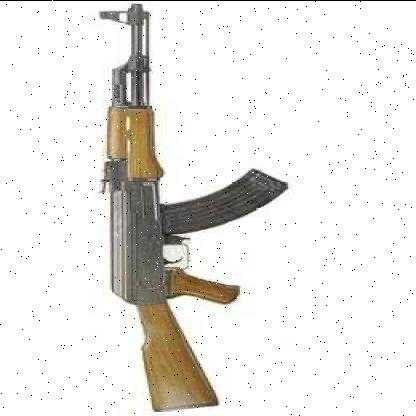rifle: (82, 3, 283, 410)
